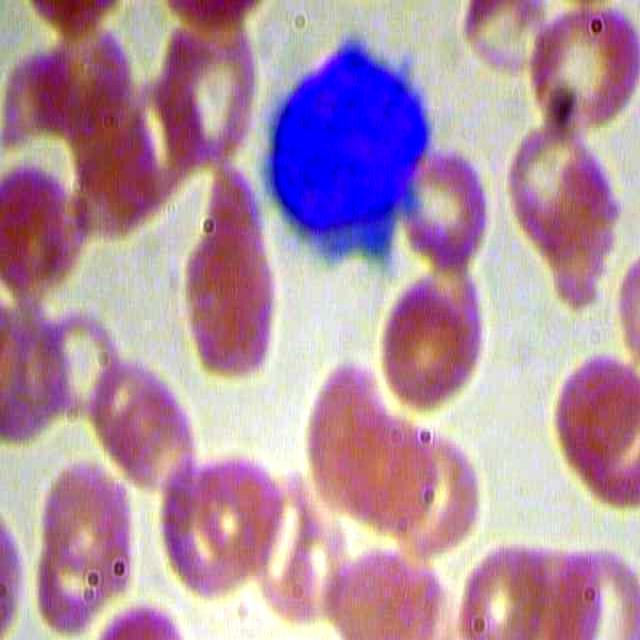RBC: (490, 122, 624, 314), (183, 159, 277, 380), (377, 272, 482, 420), (92, 352, 202, 493), (527, 1, 640, 130), (396, 151, 492, 276)
WBC: (249, 34, 446, 274)
